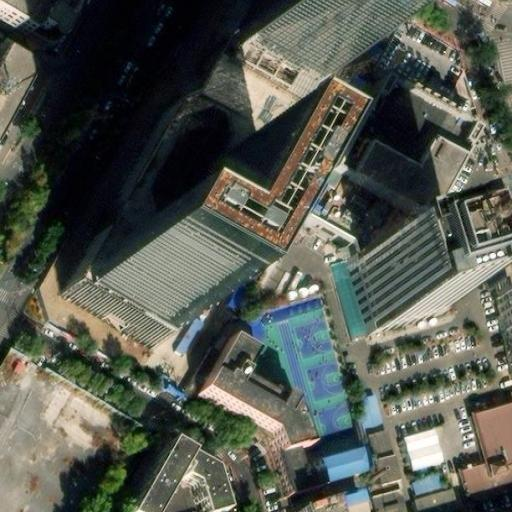building: (63, 109, 262, 350), (79, 165, 248, 344), (297, 147, 438, 264), (197, 336, 306, 449), (357, 129, 470, 208), (253, 0, 367, 77), (373, 83, 481, 159), (351, 247, 446, 333), (460, 401, 512, 504), (121, 438, 182, 512), (168, 453, 216, 512), (412, 466, 459, 512), (307, 449, 360, 487), (275, 444, 314, 495), (351, 435, 385, 486), (408, 428, 446, 469), (25, 0, 75, 28), (340, 396, 371, 441), (367, 488, 404, 512), (292, 497, 348, 512)
